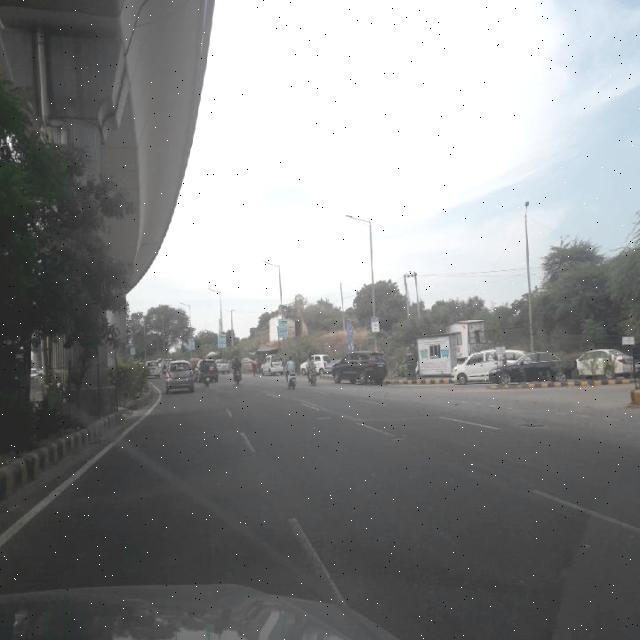D44: (284, 505, 342, 595)
